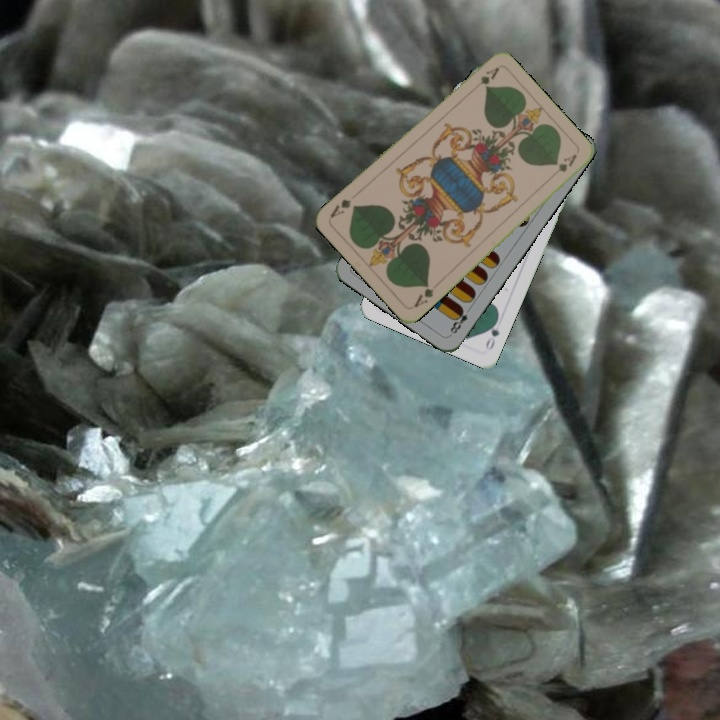E8: (446, 303, 470, 338)
GA: (409, 278, 442, 311), (476, 63, 501, 88)
GO: (481, 313, 502, 353)
